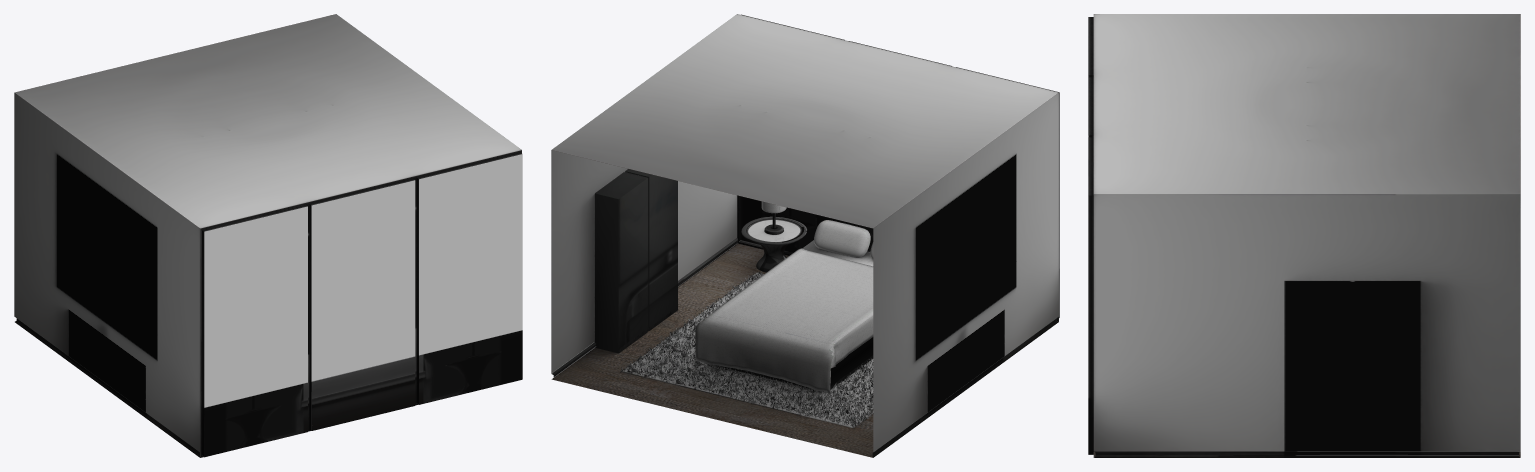
The model's file is Small Modern Bedroom.fbx.
The picture shows the model from 3 angles, left to right: view 1: azimuth 30°, elevation 25°; view 2: azimuth 150°, elevation 25°; view 3: azimuth 270°, elevation 25°; orthographic projection. The views are drawn at different scales.
Parts seen in each view (by area): view 1: Small Modern Bedroom; view 2: Small Modern Bedroom; view 3: Small Modern Bedroom.
Part boxes in pixels (x1,y1,x2,y2): Small Modern Bedroom: (14,14,522,457); Small Modern Bedroom: (551,14,1059,457); Small Modern Bedroom: (1088,14,1520,457).
Size of the model in its own units: 1880 by 1280 by 1903.
8 materials, 7 textured.
